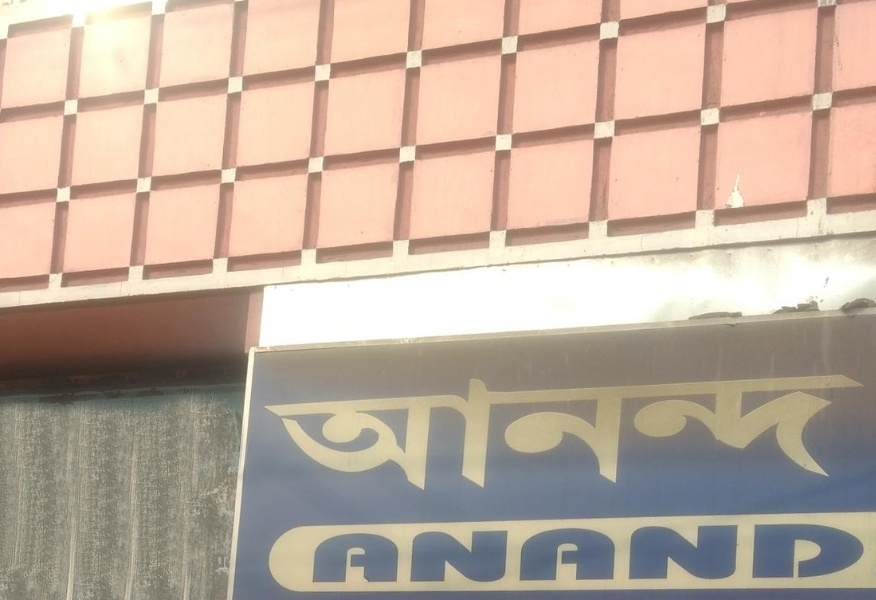text: (273, 342, 288, 511), (289, 342, 304, 511), (305, 342, 320, 511), (321, 342, 336, 511), (337, 342, 352, 511), (353, 342, 368, 511), (369, 342, 384, 511), (385, 342, 400, 511), (401, 342, 416, 511), (417, 342, 432, 511), (433, 342, 448, 511), (449, 342, 464, 511), (465, 342, 480, 511), (481, 342, 496, 511), (497, 342, 512, 511), (513, 342, 528, 511), (529, 342, 544, 511), (545, 342, 560, 511), (561, 342, 576, 511), (577, 342, 592, 511), (593, 342, 608, 511), (609, 342, 624, 511), (625, 342, 640, 511), (641, 342, 656, 511), (657, 342, 672, 511), (673, 342, 688, 511), (689, 342, 704, 511), (705, 342, 720, 511), (721, 342, 736, 511), (737, 342, 752, 511), (753, 342, 768, 511), (769, 342, 784, 511), (785, 342, 800, 511), (801, 342, 816, 511), (817, 342, 832, 511), (833, 342, 848, 511), (849, 342, 864, 511), (262, 342, 272, 511), (321, 516, 336, 591), (337, 516, 352, 591), (353, 516, 368, 591), (369, 516, 384, 591), (385, 516, 400, 591), (401, 516, 416, 591), (417, 516, 432, 591), (433, 516, 448, 591), (449, 516, 464, 591), (465, 516, 480, 591), (481, 516, 496, 591), (497, 516, 512, 591), (513, 516, 528, 591), (529, 516, 544, 591), (545, 516, 560, 591), (561, 516, 576, 591), (577, 516, 592, 591), (593, 516, 608, 591), (609, 516, 624, 591), (625, 516, 640, 591), (641, 516, 656, 591), (657, 516, 672, 591), (673, 516, 688, 591), (689, 516, 704, 591), (705, 516, 720, 591), (721, 516, 736, 591), (737, 516, 752, 591), (753, 516, 768, 591), (769, 516, 784, 591), (785, 516, 800, 591), (801, 516, 816, 591), (817, 516, 832, 591), (833, 516, 848, 591), (849, 516, 864, 591), (865, 342, 870, 511), (689, 296, 704, 334), (705, 296, 720, 334), (721, 296, 736, 334), (737, 296, 752, 334), (753, 296, 768, 334), (769, 296, 784, 334), (785, 296, 800, 334), (801, 296, 816, 334), (817, 296, 832, 334), (833, 296, 848, 334), (849, 296, 864, 334), (865, 296, 876, 334), (315, 516, 320, 591), (865, 516, 869, 591), (681, 296, 688, 334)
